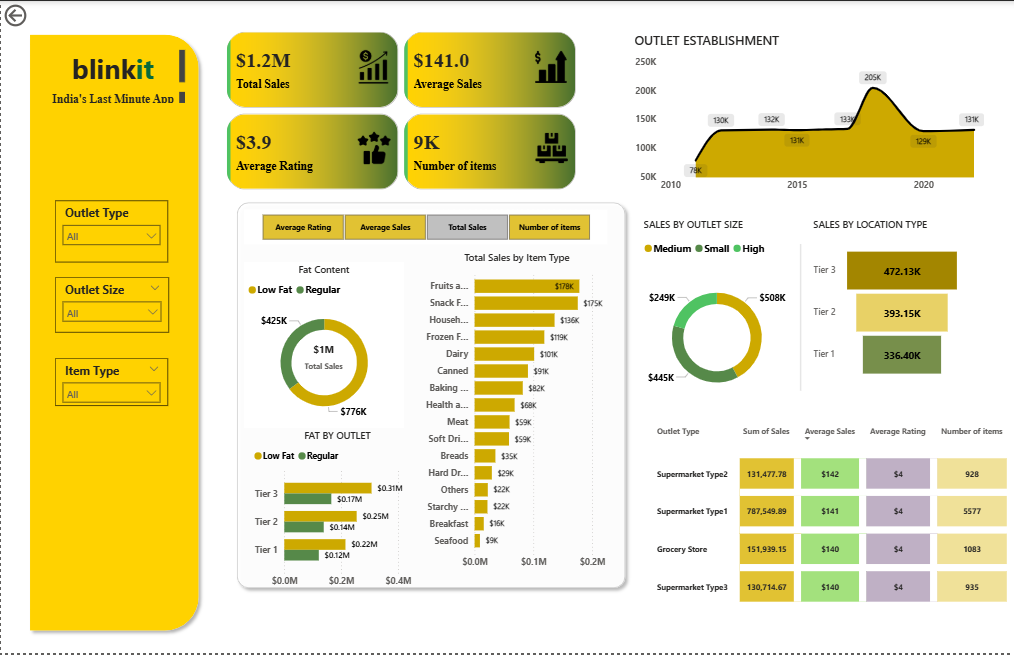

This screenshot's page, from the dashboard's own definition file:
{"tool":"powerbi","page":{"name":"Page 3","canvas":[1400,900],"ordinal":2},"visuals":[{"type":"shape","box":[31.3,36.9,250.8,840.9],"z":0},{"type":"textbox","box":[57.2,62.7,201,57.2],"z":1000},{"type":"textbox","box":[57.2,119.9,201,25.8],"z":2000},{"type":"actionButton","box":[0,0,100,40],"z":3000},{"type":"cardVisual","fields":{"Data":["BlinkIT Grocery Data.Total Sales","BlinkIT Grocery Data.Average Sales","BlinkIT Grocery Data.Average Rating","BlinkIT Grocery Data.Number of items"]},"box":[306.2,37.5,492.3,229.6],"z":4000},{"type":"shape","box":[316.7,268.7,554,550],"z":5000},{"type":"donutChart","title":"Fat Content","fields":{"Y":["BlinkIT Grocery Data.Total Sales"],"Category":["BlinkIT Grocery Data.Item Fat Content"]},"box":[334.7,360.2,220.6,229.6],"z":6000},{"type":"slicer","fields":{"Values":["Metrics.Metrics"]},"box":[334.7,288.2,501.3,48],"z":7000},{"type":"cardVisual","fields":{"Data":["BlinkIT Grocery Data.Total Sales"]},"box":[402.2,457.8,87.1,67.5],"z":8000},{"type":"clusteredBarChart","title":"FAT BY OUTLET","fields":{"Y":["BlinkIT Grocery Data.Total Sales"],"Category":["BlinkIT Grocery Data.Outlet Location Type"],"Series":["BlinkIT Grocery Data.Item Fat Content"]},"box":[343.7,589.8,241.6,228.1],"z":9000},{"type":"barChart","fields":{"Y":["BlinkIT Grocery Data.Total Sales"],"Category":["BlinkIT Grocery Data.Item Type"]},"box":[568.8,343.7,285.2,448.8],"z":10000},{"type":"lineChart","title":"OUTLET ESTABLISHMENT ","fields":{"Category":["BlinkIT Grocery Data.Outlet Establishment Year"],"Y":["Sum(BlinkIT Grocery Data.Sales)"]},"box":[869,40.5,492.3,231.1],"z":11000},{"type":"donutChart","title":"SALES BY OUTLET SIZE","fields":{"Y":["BlinkIT Grocery Data.Total Sales"],"Category":["BlinkIT Grocery Data.Outlet Size"]},"box":[882.5,298.7,211.6,280.7],"z":12000},{"type":"slicer","fields":{"Values":["BlinkIT Grocery Data.Outlet Type"]},"box":[73.5,274.7,156.1,85.5],"z":13000},{"type":"slicer","fields":{"Values":["BlinkIT Grocery Data.Outlet Size"]},"box":[73.5,381.2,157.6,76.5],"z":14000},{"type":"slicer","fields":{"Values":["BlinkIT Grocery Data.Item Type"]},"box":[73.5,492.3,156.1,66],"z":15000},{"type":"funnel","title":"SALES BY  LOCATION TYPE","fields":{"Category":["BlinkIT Grocery Data.Outlet Location Type"],"Y":["Sum(BlinkIT Grocery Data.Sales)"]},"box":[1115.1,298.7,213.1,240.1],"z":15001},{"type":"shape","box":[1094.1,336.2,21,202.6],"z":15002},{"type":"tableEx","fields":{"Values":["BlinkIT Grocery Data.Outlet Type","Sum(BlinkIT Grocery Data.Sales)","BlinkIT Grocery Data.Average Sales","BlinkIT Grocery Data.Average Rating","BlinkIT Grocery Data.Number of items"]},"box":[893,562.8,507.3,280.7],"z":15003}]}

Visuals, with their boxes in screenshot pixels (x1, y1, x2, y2), scaled from the page's 1400x900 canvas onto the 1014x655 screenshot:
shape: [left=23, top=27, right=204, bottom=639]
textbox: [left=41, top=46, right=187, bottom=87]
textbox: [left=41, top=87, right=187, bottom=106]
actionButton: [left=0, top=0, right=72, bottom=29]
cardVisual - BlinkIT Grocery Data.Total Sales x BlinkIT Grocery Data.Average Sales: [left=222, top=27, right=578, bottom=194]
shape: [left=229, top=196, right=631, bottom=596]
"Fat Content" donutChart: [left=242, top=262, right=402, bottom=429]
slicer - Metrics.Metrics: [left=242, top=210, right=606, bottom=245]
cardVisual - BlinkIT Grocery Data.Total Sales: [left=291, top=333, right=354, bottom=382]
"FAT BY OUTLET" clusteredBarChart: [left=249, top=429, right=424, bottom=595]
barChart - BlinkIT Grocery Data.Total Sales x BlinkIT Grocery Data.Item Type: [left=412, top=250, right=619, bottom=577]
"OUTLET ESTABLISHMENT " lineChart: [left=629, top=29, right=986, bottom=198]
"SALES BY OUTLET SIZE" donutChart: [left=639, top=217, right=792, bottom=422]
slicer - BlinkIT Grocery Data.Outlet Type: [left=53, top=200, right=166, bottom=262]
slicer - BlinkIT Grocery Data.Outlet Size: [left=53, top=277, right=167, bottom=333]
slicer - BlinkIT Grocery Data.Item Type: [left=53, top=358, right=166, bottom=406]
"SALES BY  LOCATION TYPE" funnel: [left=808, top=217, right=962, bottom=392]
shape: [left=792, top=245, right=808, bottom=392]
tableEx - BlinkIT Grocery Data.Outlet Type x Sum(BlinkIT Grocery Data.Sales): [left=647, top=410, right=1013, bottom=614]
